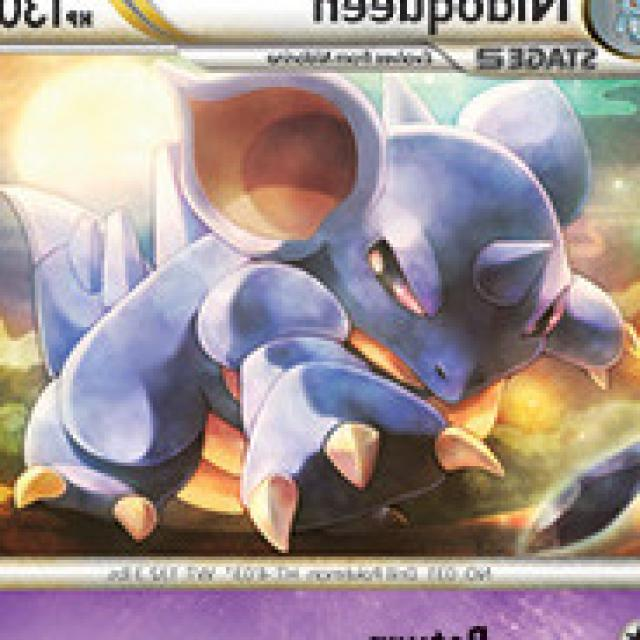Nidoqueen: (0, 67, 640, 537)
